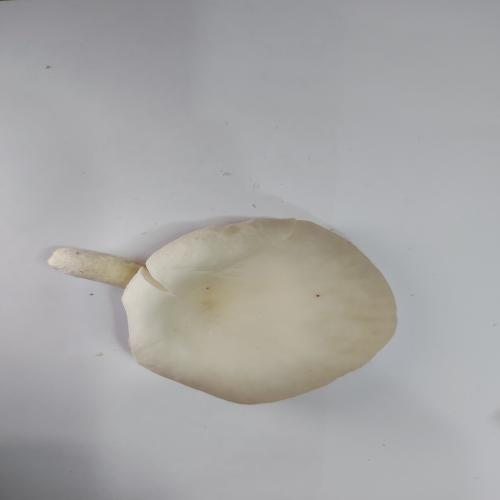Oyster Mushroom: (47, 216, 399, 406)
